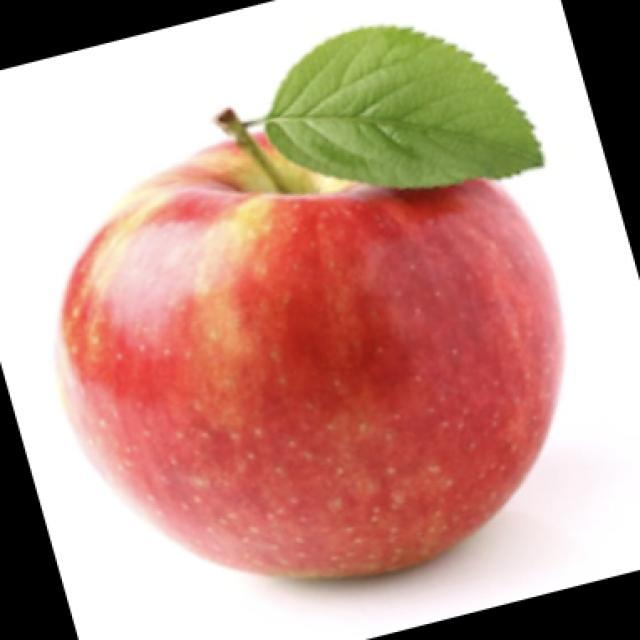Fresh Apple: (80, 119, 557, 568)
